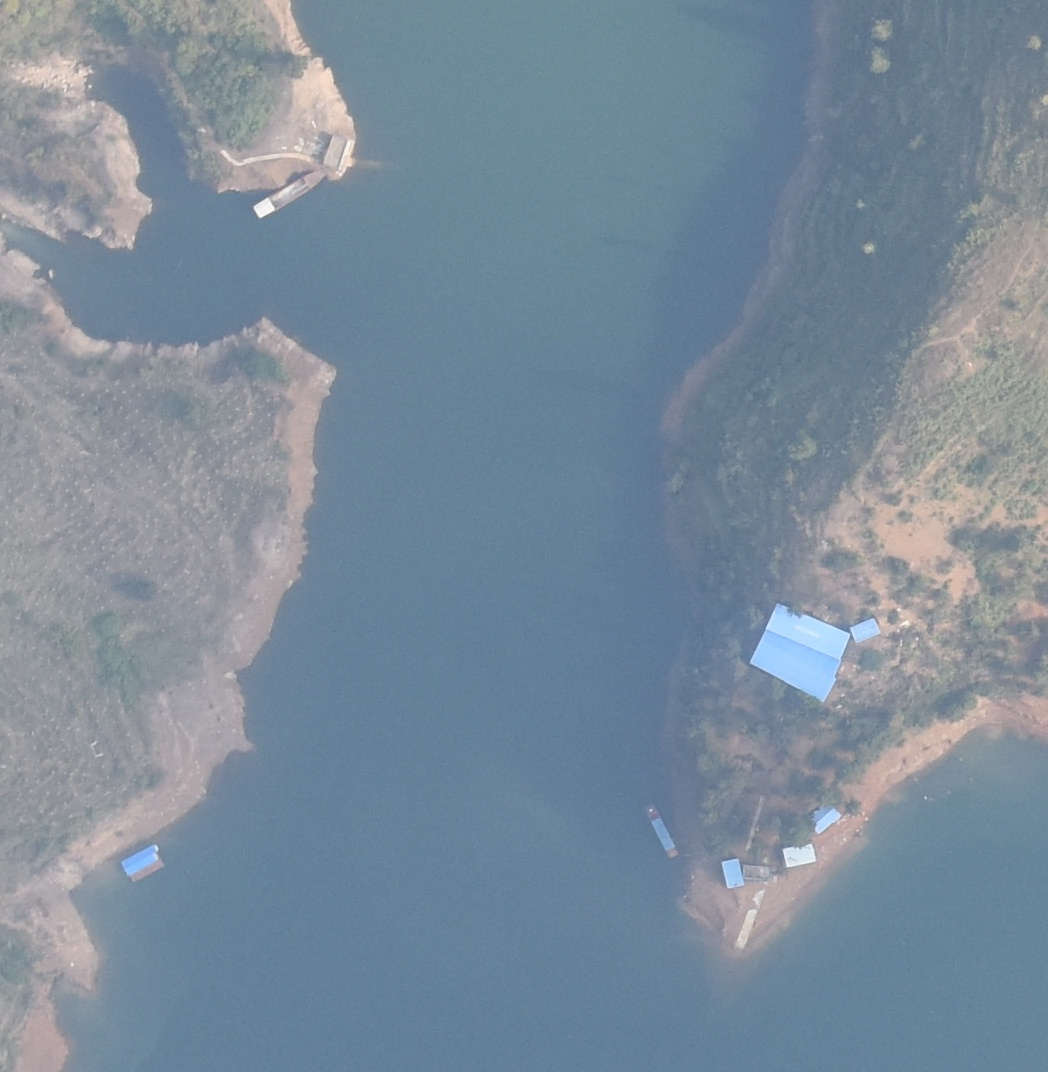building: (322, 133, 357, 173)
prefabricated-house: (749, 602, 850, 705), (122, 845, 162, 878), (811, 801, 842, 835), (783, 844, 817, 867), (849, 618, 880, 642), (720, 858, 744, 887)
ship: (254, 170, 329, 217), (643, 802, 679, 859)
